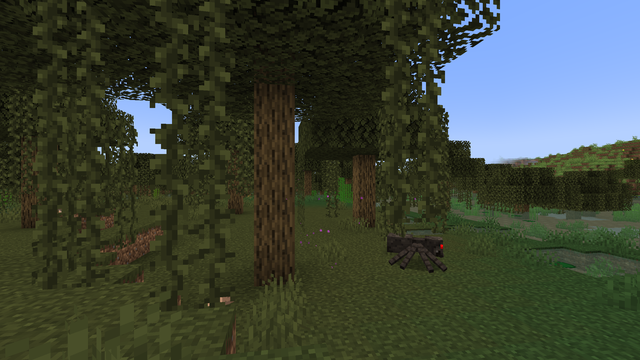araignees: (388, 229, 453, 271)
